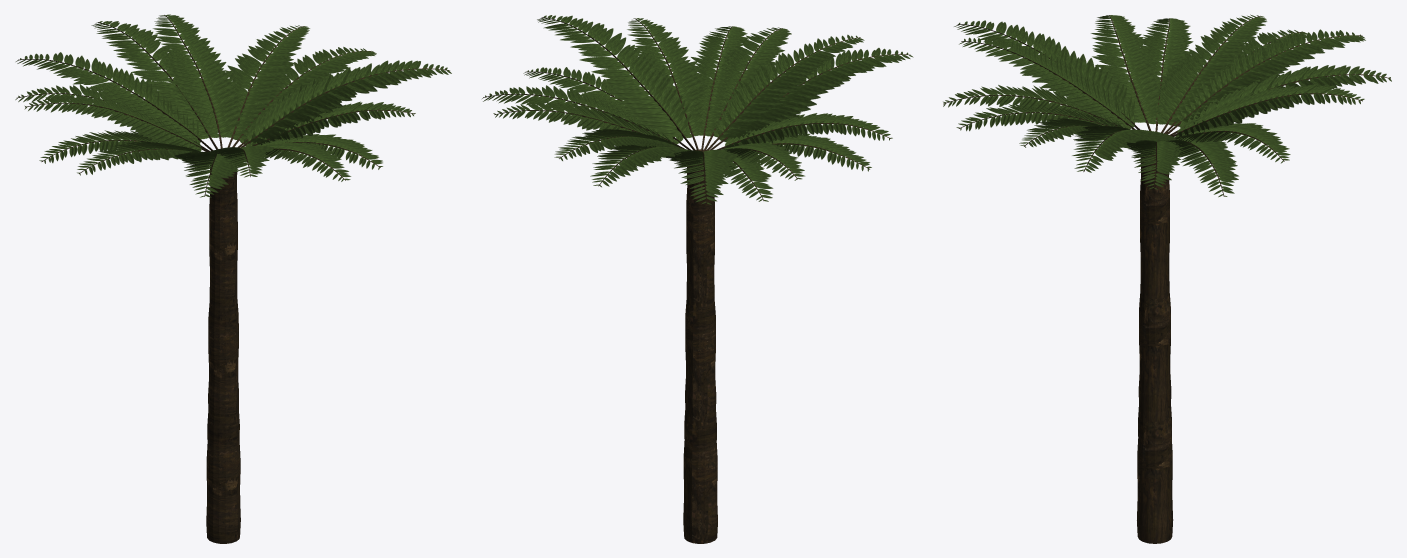
File: tree_fern_v01.glb
The picture shows the model from 3 angles, left to right: view 1: azimuth 30°, elevation 25°; view 2: azimuth 150°, elevation 25°; view 3: azimuth 270°, elevation 25°; orthographic projection. The views are drawn at different scales.
Parts seen in each view (by area): view 1: tree_fern_v01; view 2: tree_fern_v01; view 3: tree_fern_v01.
Part boxes in pixels (x1=…): tree_fern_v01: x1=15, y1=14, x2=451, y2=543; tree_fern_v01: x1=482, y1=15, x2=913, y2=543; tree_fern_v01: x1=943, y1=14, x2=1391, y2=543.
Bounding box in the file's own units: 2.76 × 3.21 × 2.79.
Materials: 2 (2 with a texture image).
